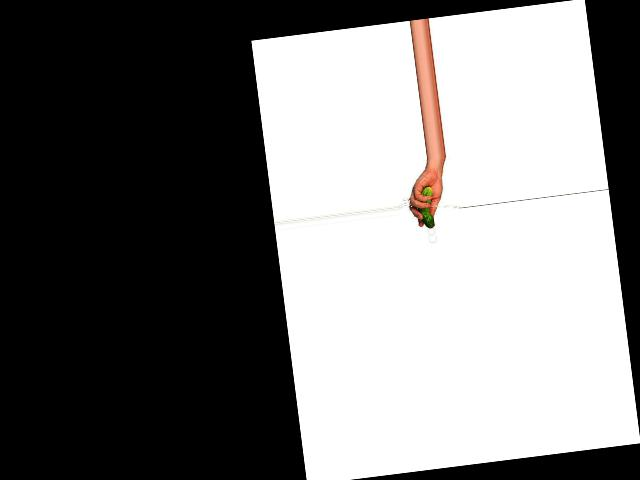cucumber: (416, 186, 436, 229)
